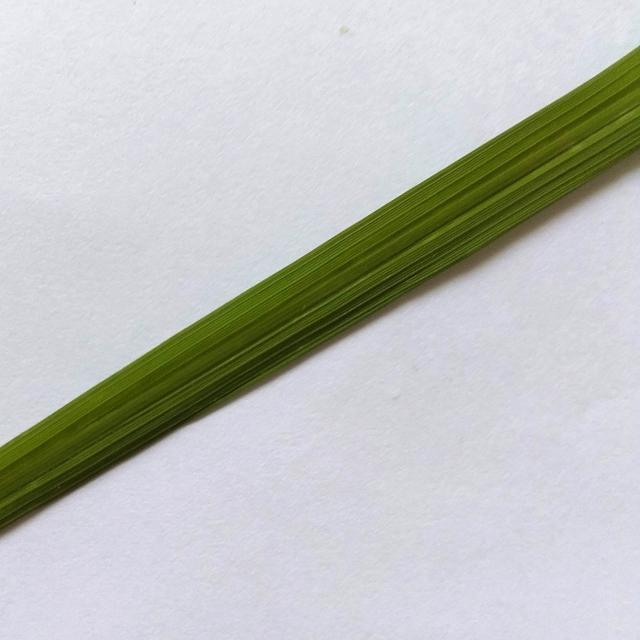Rice_Healthy: (0, 47, 640, 527)
